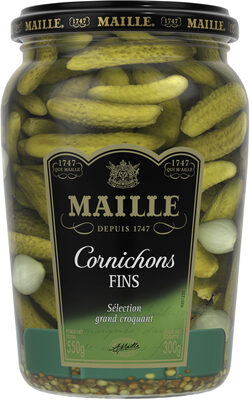Maille Cornichons Fins Bocal 300g: (12, 20, 238, 380)
